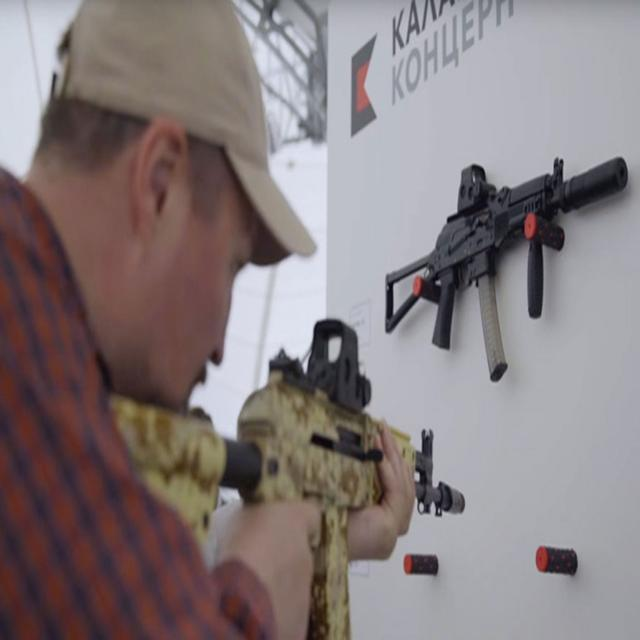weapon: (104, 316, 467, 640), (384, 156, 630, 385)
